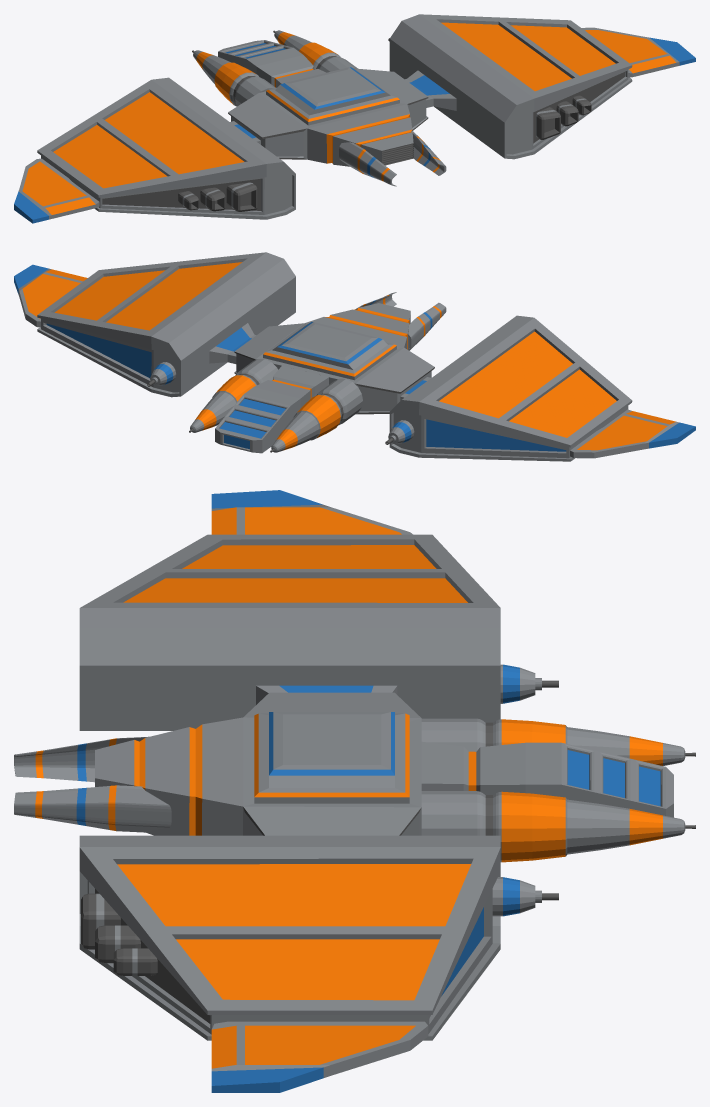
The model's file is Spaceship.fbx.
3 renders of one model, top to bottom at view 1: azimuth 30°, elevation 25°; view 2: azimuth 150°, elevation 25°; view 3: azimuth 270°, elevation 25°, orthographic. The views are drawn at different scales.
Parts seen in each view (by area): view 1: Cube.003, Cube, Cube.005, Cube.001, Cylinder.001, Cube.004, Cylinder, Cube.002; view 2: Cube.003, Cube, Cube.001, Cylinder.001, Cylinder, Cube.002, Cube.004, Cylinder.002; view 3: Cube.003, Cube, Cube.001, Cylinder, Cube.004, Cylinder.001, Cube.005, Cylinder.002, Cube.002.
Boxes of the visible parts, x1,y1,x2,y2 form: Cube.003: [14, 14, 695, 223]; Cube: [228, 67, 428, 166]; Cube.005: [178, 95, 591, 211]; Cube.001: [218, 40, 325, 87]; Cylinder.001: [192, 50, 275, 106]; Cube.004: [339, 130, 446, 186]; Cylinder: [273, 30, 356, 72]; Cube.002: [230, 70, 456, 144]; Cube.003: [14, 252, 695, 461]; Cube: [234, 303, 434, 414]; Cube.001: [215, 366, 328, 453]; Cylinder.001: [270, 378, 362, 452]; Cylinder: [189, 359, 277, 432]; Cube.002: [209, 323, 430, 400]; Cube.004: [355, 292, 446, 350]; Cylinder.002: [147, 362, 414, 444]; Cube.003: [79, 490, 500, 1092]; Cube: [95, 692, 421, 835]; Cube.001: [421, 741, 673, 817]; Cylinder: [421, 791, 695, 862]; Cube.004: [14, 736, 171, 832]; Cylinder.001: [421, 718, 695, 765]; Cube.005: [81, 893, 157, 975]; Cylinder.002: [492, 664, 558, 916]; Cube.002: [256, 685, 397, 704].
Bounding box in the file's own units: 795 × 63.99 × 387.
